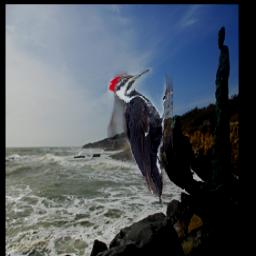Woodpecker: (108, 67, 173, 202)
